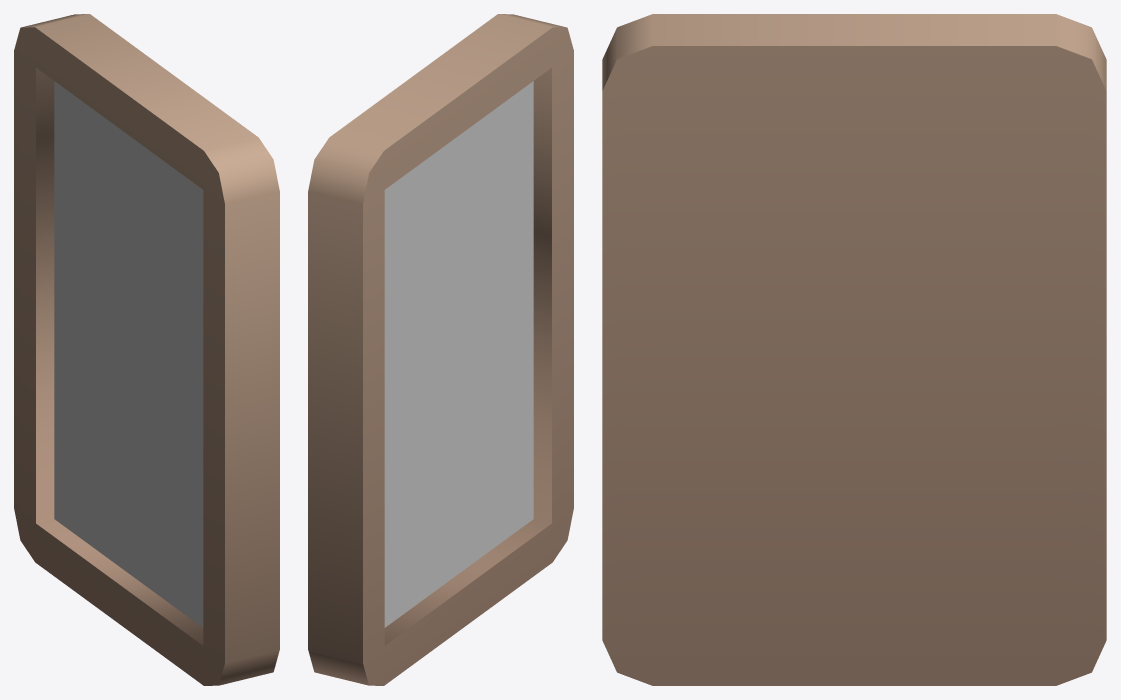
Rendered from mirror-rectangle-large (%wall).glb.
3 renders of one model, left to right at view 1: azimuth 30°, elevation 25°; view 2: azimuth 150°, elevation 25°; view 3: azimuth 270°, elevation 25°, orthographic. The views are drawn at different scales.
Parts seen in each view (by area): view 1: mirror-rectangle-large (%wall); view 2: mirror-rectangle-large (%wall); view 3: mirror-rectangle-large (%wall).
Boxes of the visible parts, bbox=[...] form: mirror-rectangle-large (%wall): bbox=[14, 14, 279, 685]; mirror-rectangle-large (%wall): bbox=[308, 14, 573, 685]; mirror-rectangle-large (%wall): bbox=[602, 14, 1106, 685].
Bounding box in the file's own units: 0.075 × 0.7 × 0.5.
